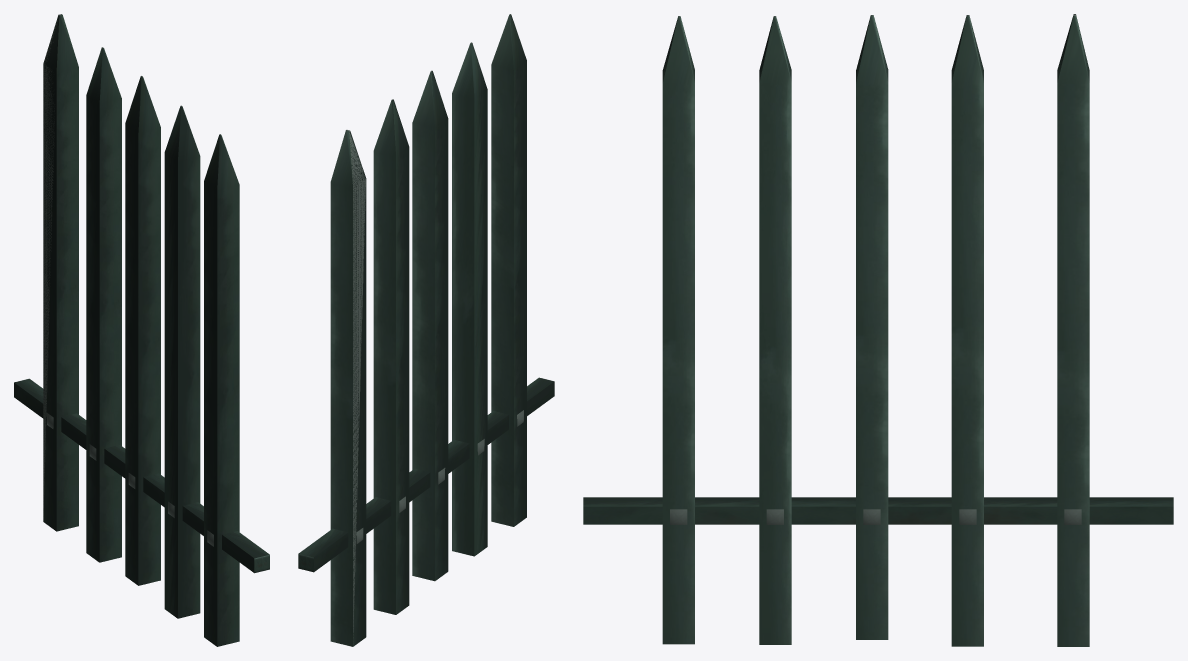
File: inner_door.fbx
3 renders of one model, left to right at view 1: azimuth 30°, elevation 25°; view 2: azimuth 150°, elevation 25°; view 3: azimuth 270°, elevation 25°, orthographic. The views are drawn at different scales.
Parts seen in each view (by area): view 1: Cylinder_1; view 2: Cylinder_1; view 3: Cylinder_1.
Part boxes in pixels (left/top/right/bottom): Cylinder_1: left=14, top=14, right=269, bottom=646; Cylinder_1: left=298, top=14, right=554, bottom=646; Cylinder_1: left=583, top=14, right=1173, bottom=646.
Size of the model in its own units: 37.42 by 634 by 543.
4 materials, 4 textured.
